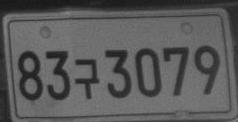0: (135, 47, 162, 97)
3: (104, 49, 132, 98), (45, 50, 71, 100)
7: (163, 46, 189, 96)
8: (17, 49, 43, 100)
9: (194, 44, 221, 95)
구: (74, 58, 100, 98)
